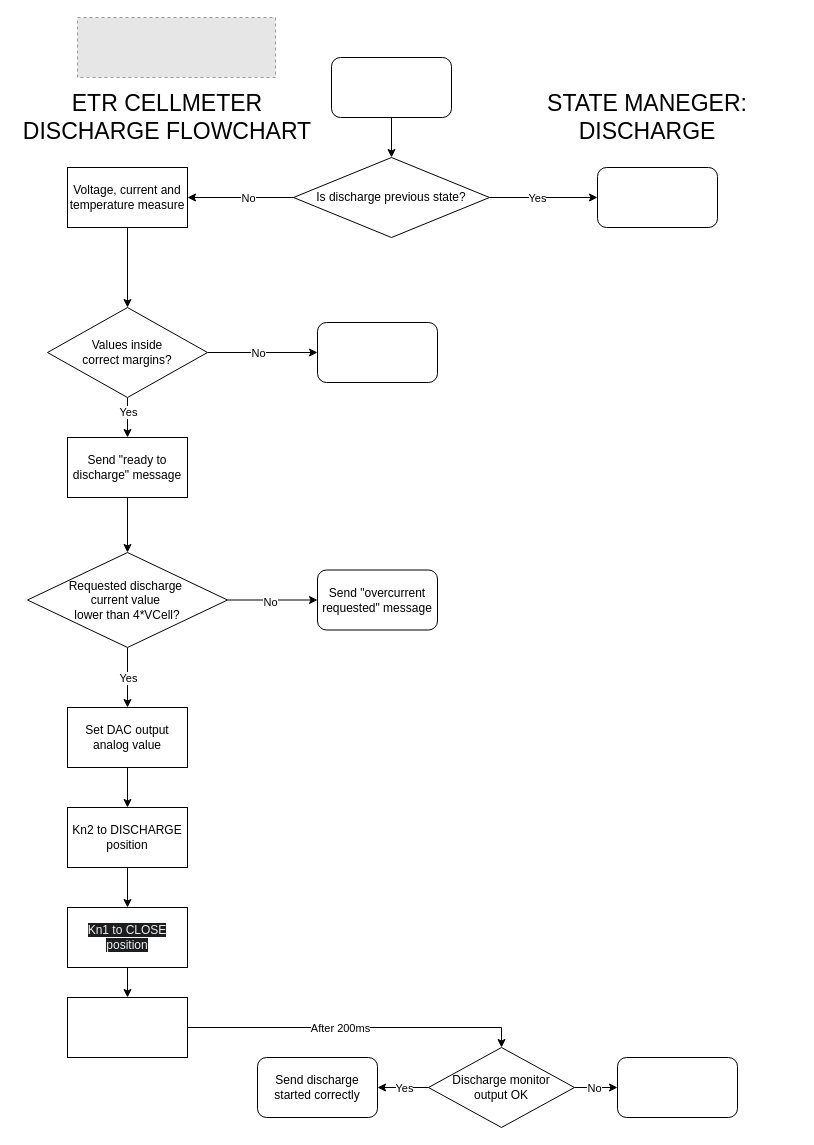
Image size: 814x1145. Some labels were removed from this diagram. Grey dashed boxes stand in for pictures. The centre of each missing label's shape, as x and y in pixels:
Call discharge monitor: the point at 127,1027
Discharge order for cell n: the point at 391,87
Kn1 to OPEN position Send discharge error message: the point at 677,1087
Send "value error" message: the point at 377,352
Send discharge error message: the point at 657,197
